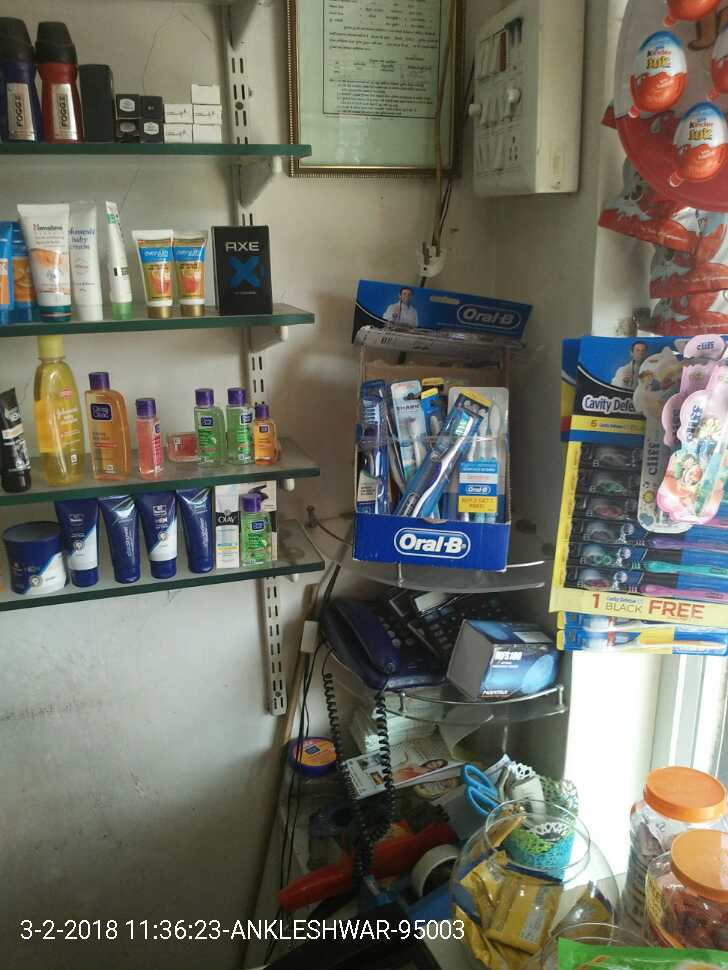oralb: (348, 379, 517, 540)
